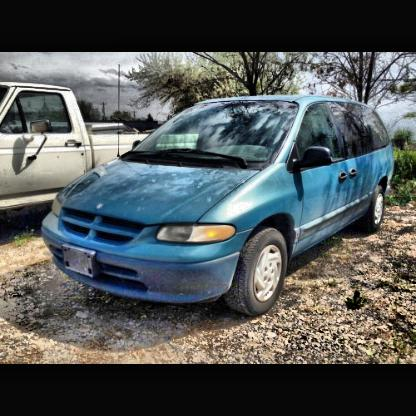Dodge Caravan Minivan 1997: (40, 93, 396, 318)
